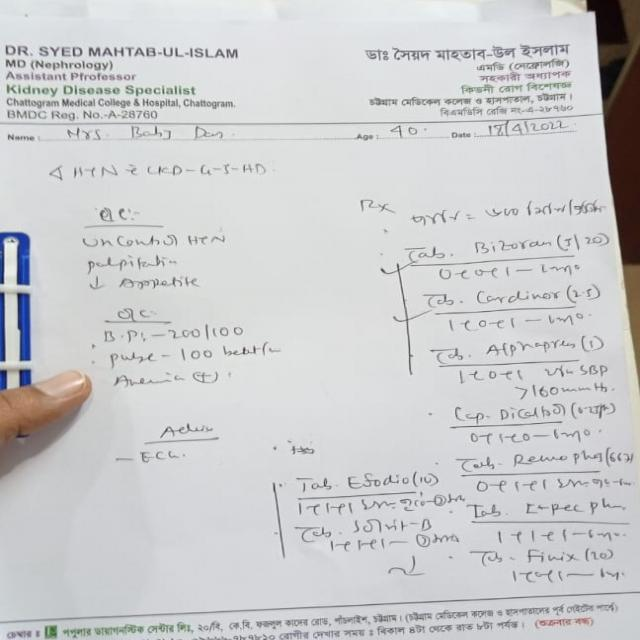Alphapress: (487, 338, 582, 361)
Bizoran: (462, 232, 557, 257)
Cardinor: (474, 288, 569, 309)
Dicaltrol: (493, 400, 571, 423)
Efodio: (336, 468, 414, 492)
Finix: (526, 545, 582, 568)
Remophos: (502, 448, 606, 470)
Solvit B: (350, 512, 439, 535)
